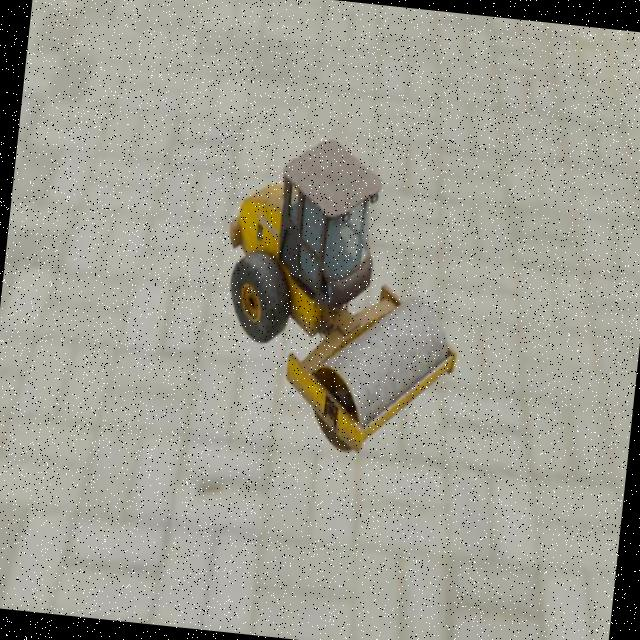Roller: (205, 128, 478, 462)
